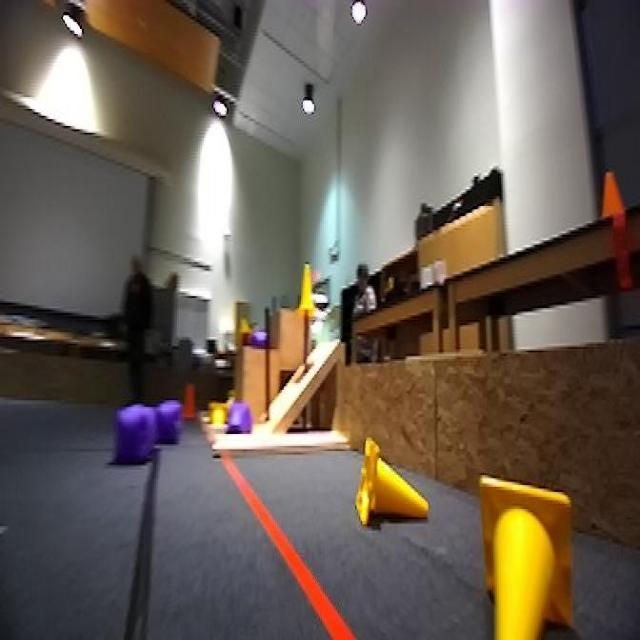frc_cone: (472, 475, 578, 630), (354, 439, 432, 536), (300, 259, 327, 332), (207, 403, 232, 432)
frc_cube: (111, 407, 156, 463), (154, 398, 183, 449), (224, 402, 248, 434), (248, 329, 268, 347)
